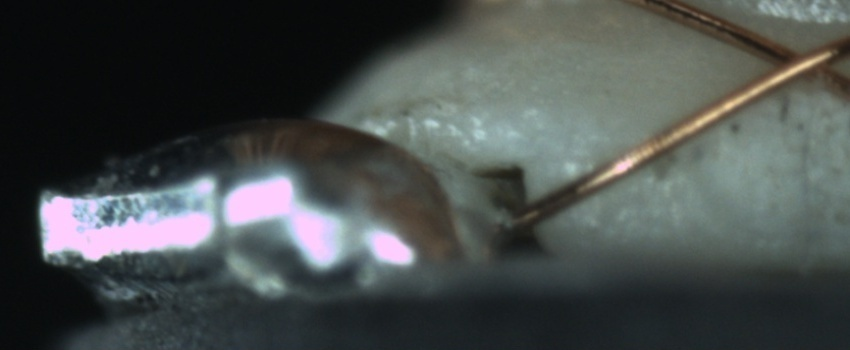CL: (748, 30, 845, 93)
